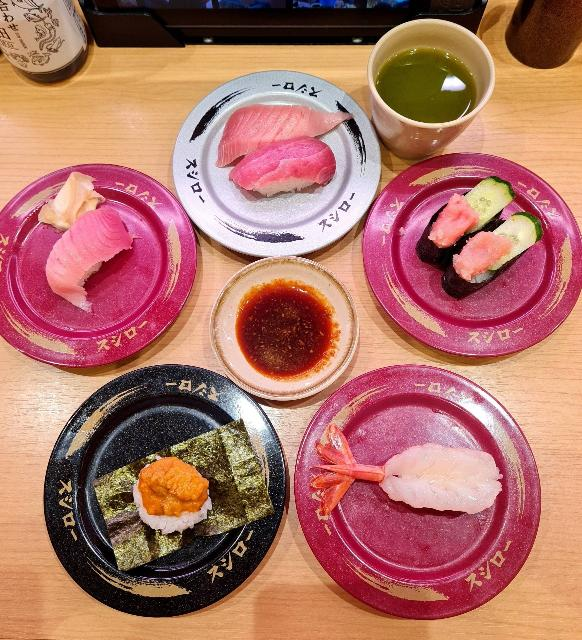janback: (56, 365, 256, 446), (87, 558, 257, 627), (29, 441, 92, 591), (221, 529, 303, 574)
janwhite: (167, 77, 224, 253), (220, 189, 365, 253), (219, 51, 364, 106), (342, 105, 383, 214)
